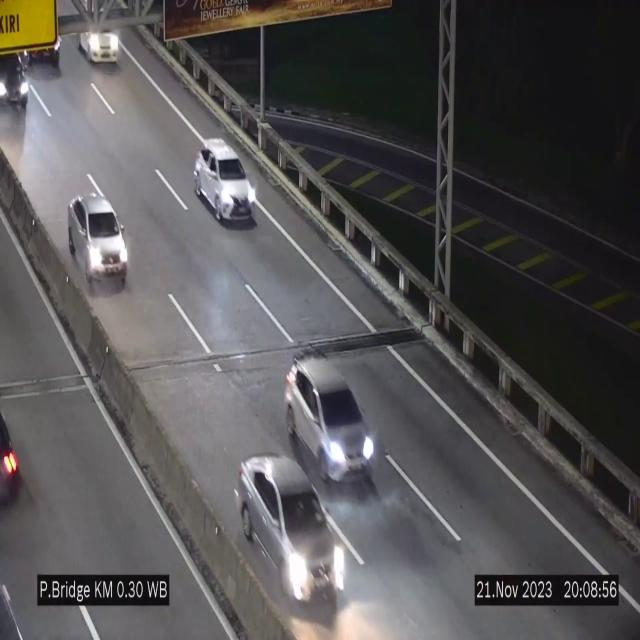Car: (238, 450, 343, 612), (285, 356, 375, 482), (68, 194, 128, 288), (194, 139, 256, 221), (78, 2, 130, 68), (0, 46, 36, 111), (25, 22, 73, 68)
